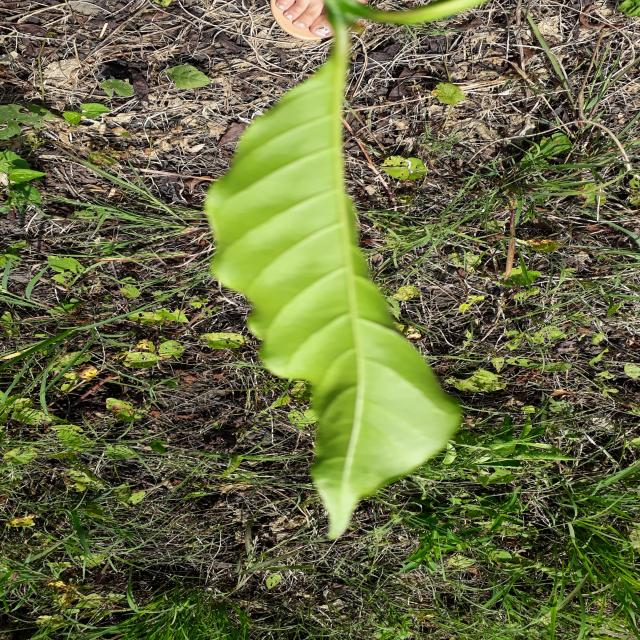Sanas: (205, 49, 464, 542)
